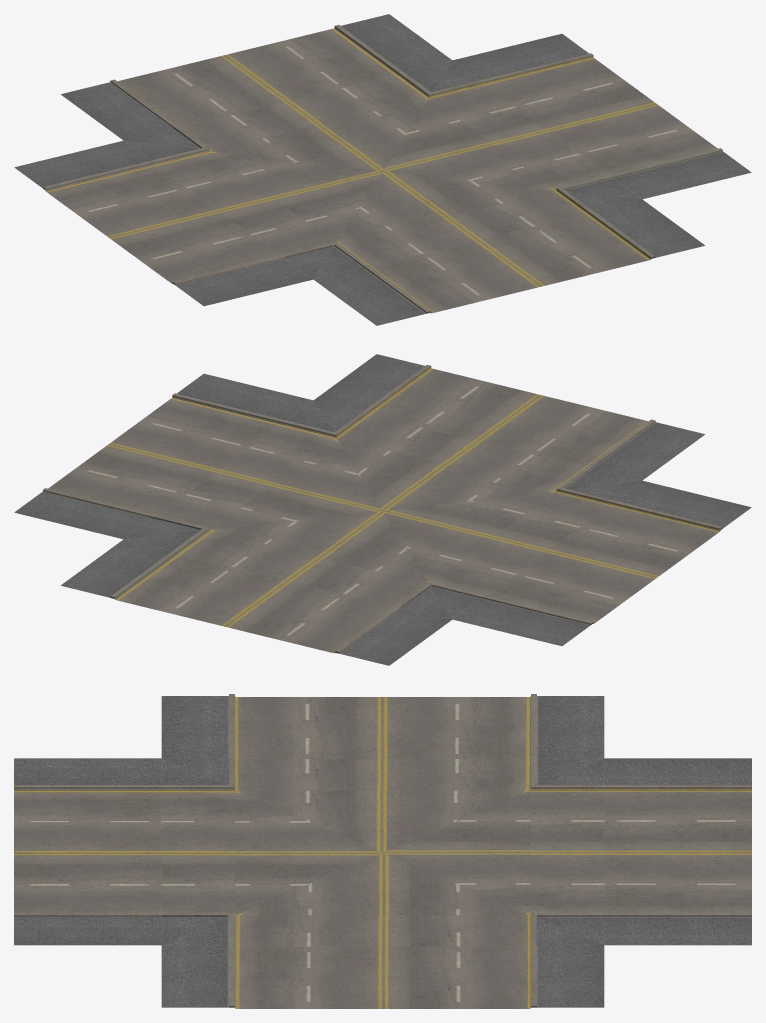
File: Crossroad.fbx
3 views of the same model, one above another, from view 1: azimuth 30°, elevation 25°; view 2: azimuth 150°, elevation 25°; view 3: azimuth 270°, elevation 25° (orthographic). The views are drawn at different scales.
Visible parts, largest first — view 1: mcp_roads_part_02.003; view 2: mcp_roads_part_02.003; view 3: mcp_roads_part_02.003.
Part boxes in pixels (bbox=[...]): mcp_roads_part_02.003: bbox=[14, 14, 751, 325]; mcp_roads_part_02.003: bbox=[14, 354, 751, 665]; mcp_roads_part_02.003: bbox=[14, 694, 751, 1008].
Size of the model in its own units: 5000 by 21.46 by 5000.
